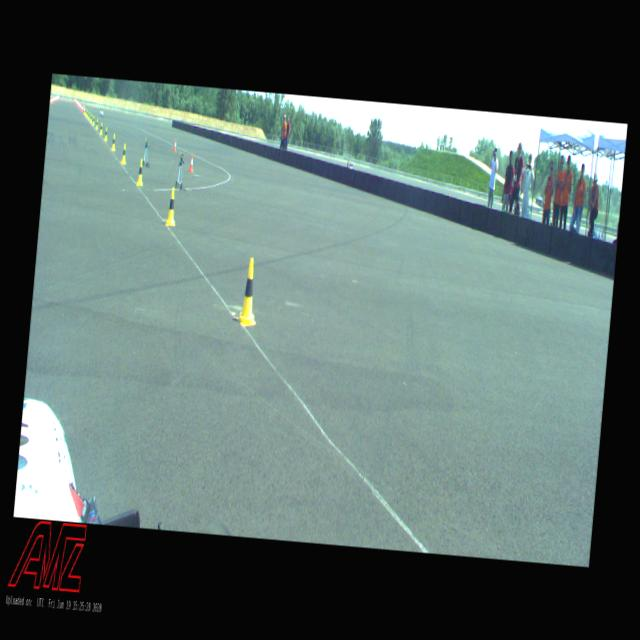large_orange_cone: (82, 102, 84, 112)
orange_cone: (188, 155, 194, 171), (173, 138, 177, 150)
yellow_cone: (236, 257, 260, 326), (165, 187, 178, 226), (136, 160, 144, 184), (121, 143, 127, 163), (110, 134, 116, 150), (104, 126, 108, 140), (99, 122, 103, 134), (95, 118, 99, 130), (92, 115, 95, 125), (90, 114, 92, 122), (88, 112, 90, 119), (86, 111, 88, 118), (85, 108, 86, 115)
